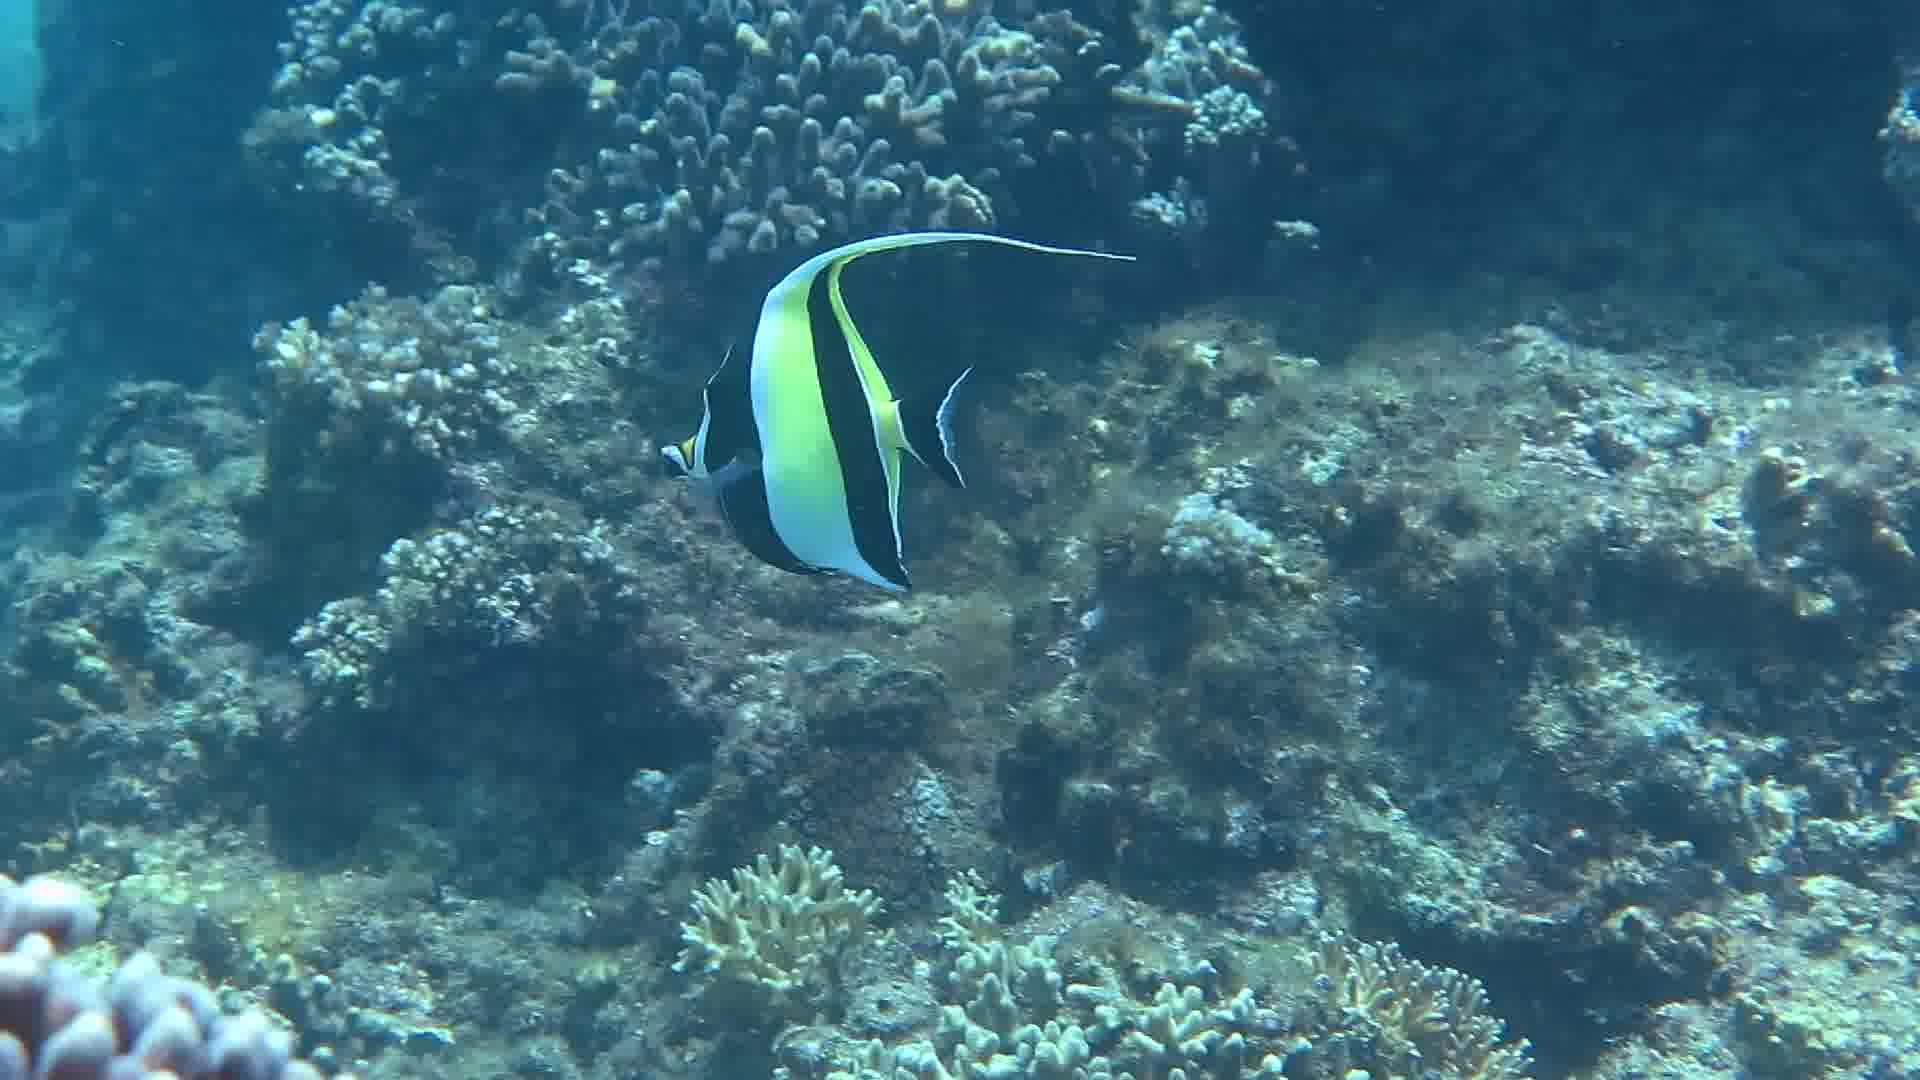Zanclus cornutus: (658, 208, 1015, 628)
